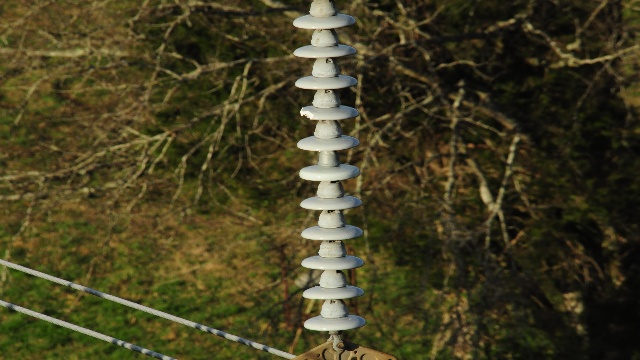broken_local: (297, 105, 318, 121)
insulator_unspecified: (292, 15, 367, 332)
